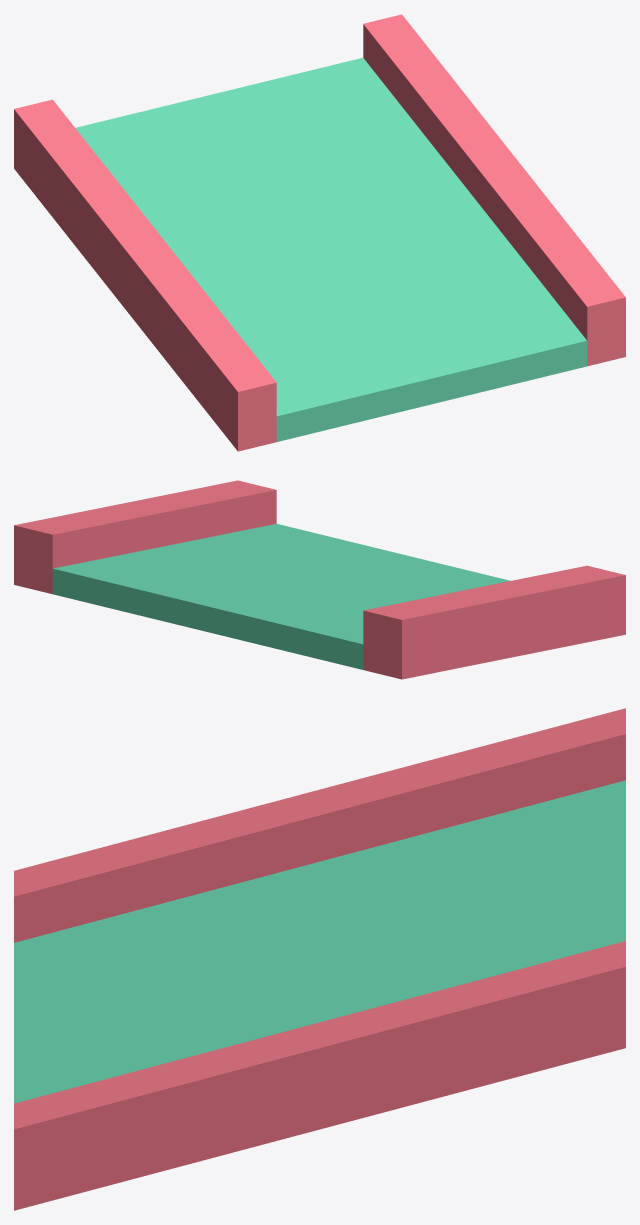
The model's file is rampB.glb.
3 views of the same model, one above another, from view 1: azimuth 30°, elevation 25°; view 2: azimuth 150°, elevation 25°; view 3: azimuth 270°, elevation 25° (orthographic). The views are drawn at different scales.
Parts seen in each view (by area): view 1: rampB; view 2: rampB; view 3: rampB.
Boxes of the visible parts, bbox=[...] form: rampB: bbox=[14, 14, 625, 451]; rampB: bbox=[14, 480, 625, 679]; rampB: bbox=[14, 708, 625, 1210].
Bounding box in the file's own units: 0.9999 × 0.44 × 0.9999.
